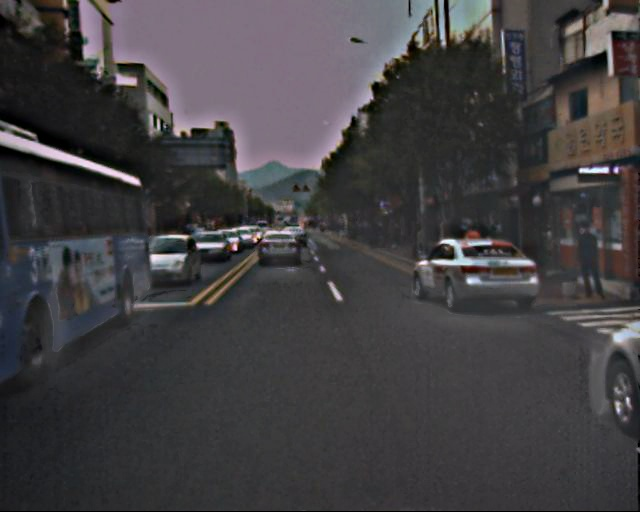person: (570, 218, 607, 300)
